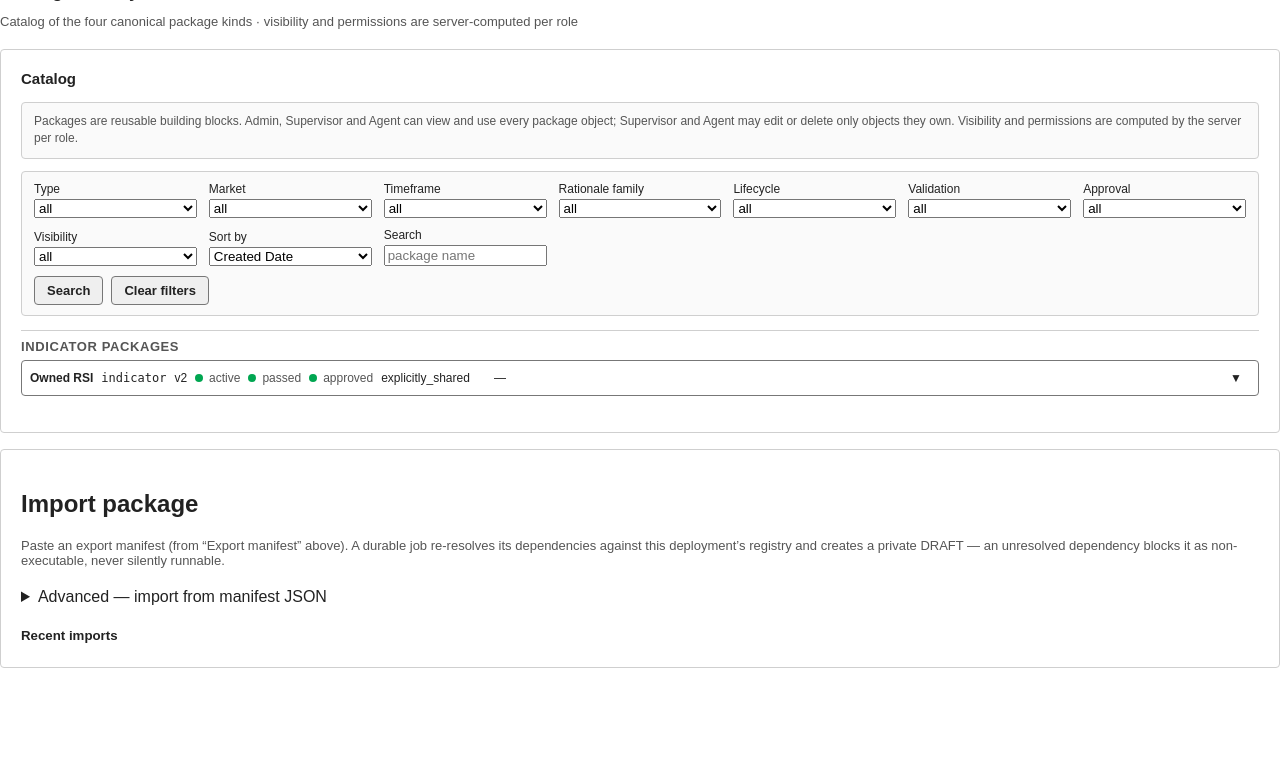
Package Library explicit sharing (GAP-17) › shows the Sharing panel and current grantees when the server marks can_share
The image size is (1280, 781).
Expected: the text "Owned RSI" is shown, [30,371,93,385]
Click the button named "Detail". click: (1236, 378)
box: [1222,364,1250,392]
(page scrolled)
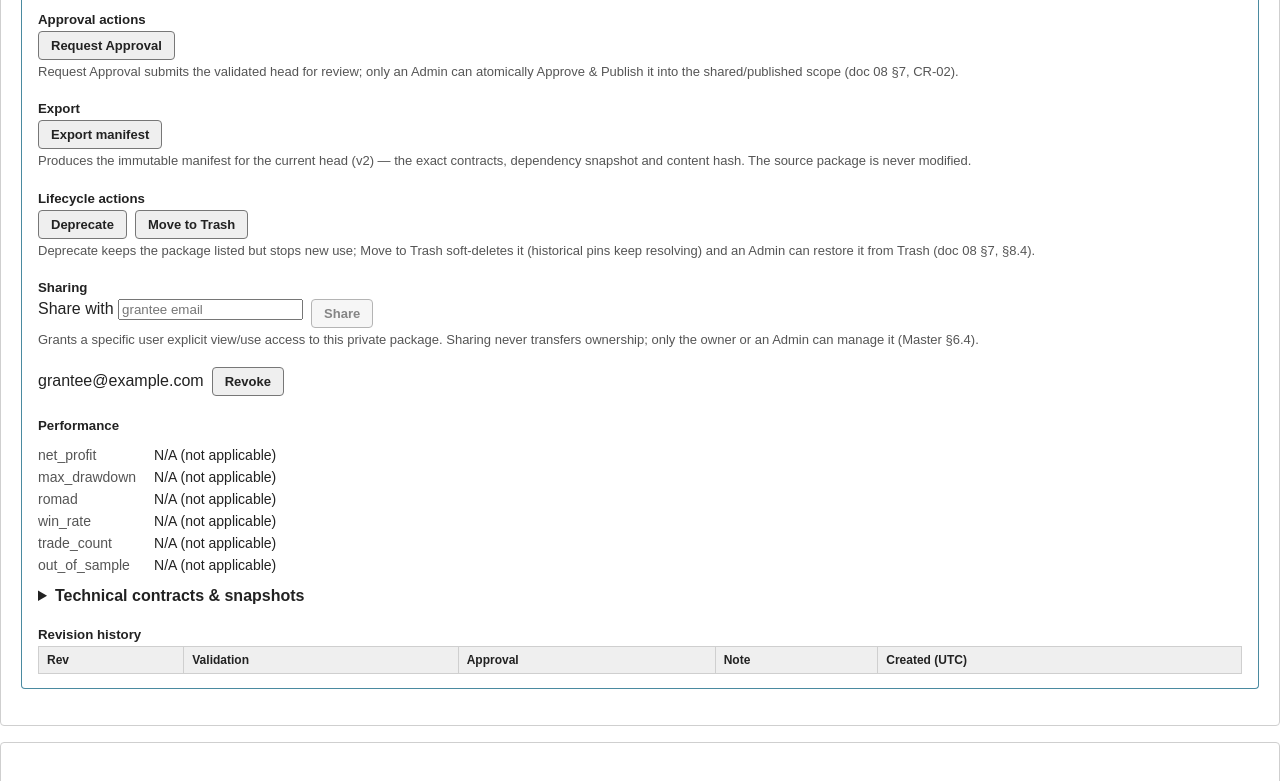
Now the heading "Sharing" is shown, box [38,280,87,295]
Now the text "grantee@example.com" is shown, box [38,372,204,390]
Now the button "Revoke" is shown, box [212,367,284,396]
